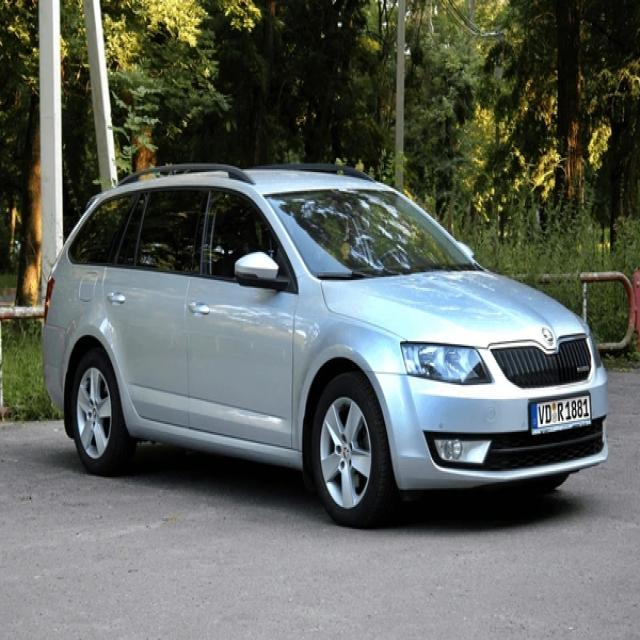skoda: (537, 322, 556, 348)
